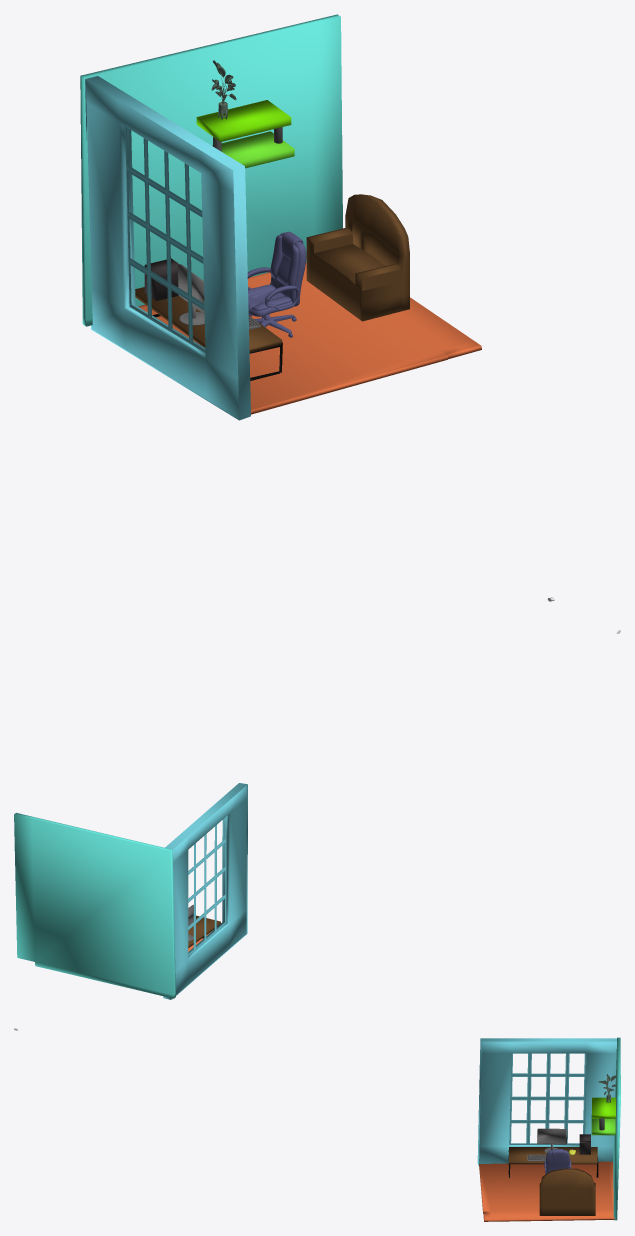
The model's file is Mini_setup.glb.
The picture shows the model from 3 angles, top to bottom: view 1: azimuth 30°, elevation 25°; view 2: azimuth 150°, elevation 25°; view 3: azimuth 270°, elevation 25°; orthographic projection. The views are drawn at different scales.
Parts seen in each view (by area): view 1: Pared, Ventana, Piso, Plano.006, uploads_files_4599737_chair+obj, Repisa 1, Mesa, Repisa 2, Gabinete; view 2: Pared, Ventana; view 3: Ventana, Piso, Plano.006, Mesa, Pared, uploads_files_4599737_chair+obj, Repisa 1, monitor, Repisa 2.
Boxes of the visible parts, x1,y1,x2,y2 form: Pared: [80, 14, 342, 326]; Ventana: [85, 76, 250, 420]; Piso: [138, 262, 481, 414]; Plano.006: [306, 194, 409, 321]; uploads_files_4599737_chair+obj: [247, 231, 306, 337]; Repisa 1: [196, 100, 291, 141]; Mesa: [135, 287, 282, 352]; Repisa 2: [212, 131, 294, 168]; Gabinete: [144, 258, 178, 301]; Pared: [14, 813, 175, 998]; Ventana: [163, 783, 247, 999]; Ventana: [477, 1038, 616, 1166]; Piso: [479, 1161, 614, 1221]; Plano.006: [539, 1168, 595, 1215]; Mesa: [509, 1147, 597, 1164]; Pared: [613, 1037, 620, 1220]; uploads_files_4599737_chair+obj: [544, 1149, 571, 1173]; Repisa 1: [592, 1097, 615, 1118]; monitor: [537, 1128, 567, 1144]; Repisa 2: [591, 1114, 615, 1135].
Size of the model in its own units: 1.25 by 0.7633 by 3.29.
